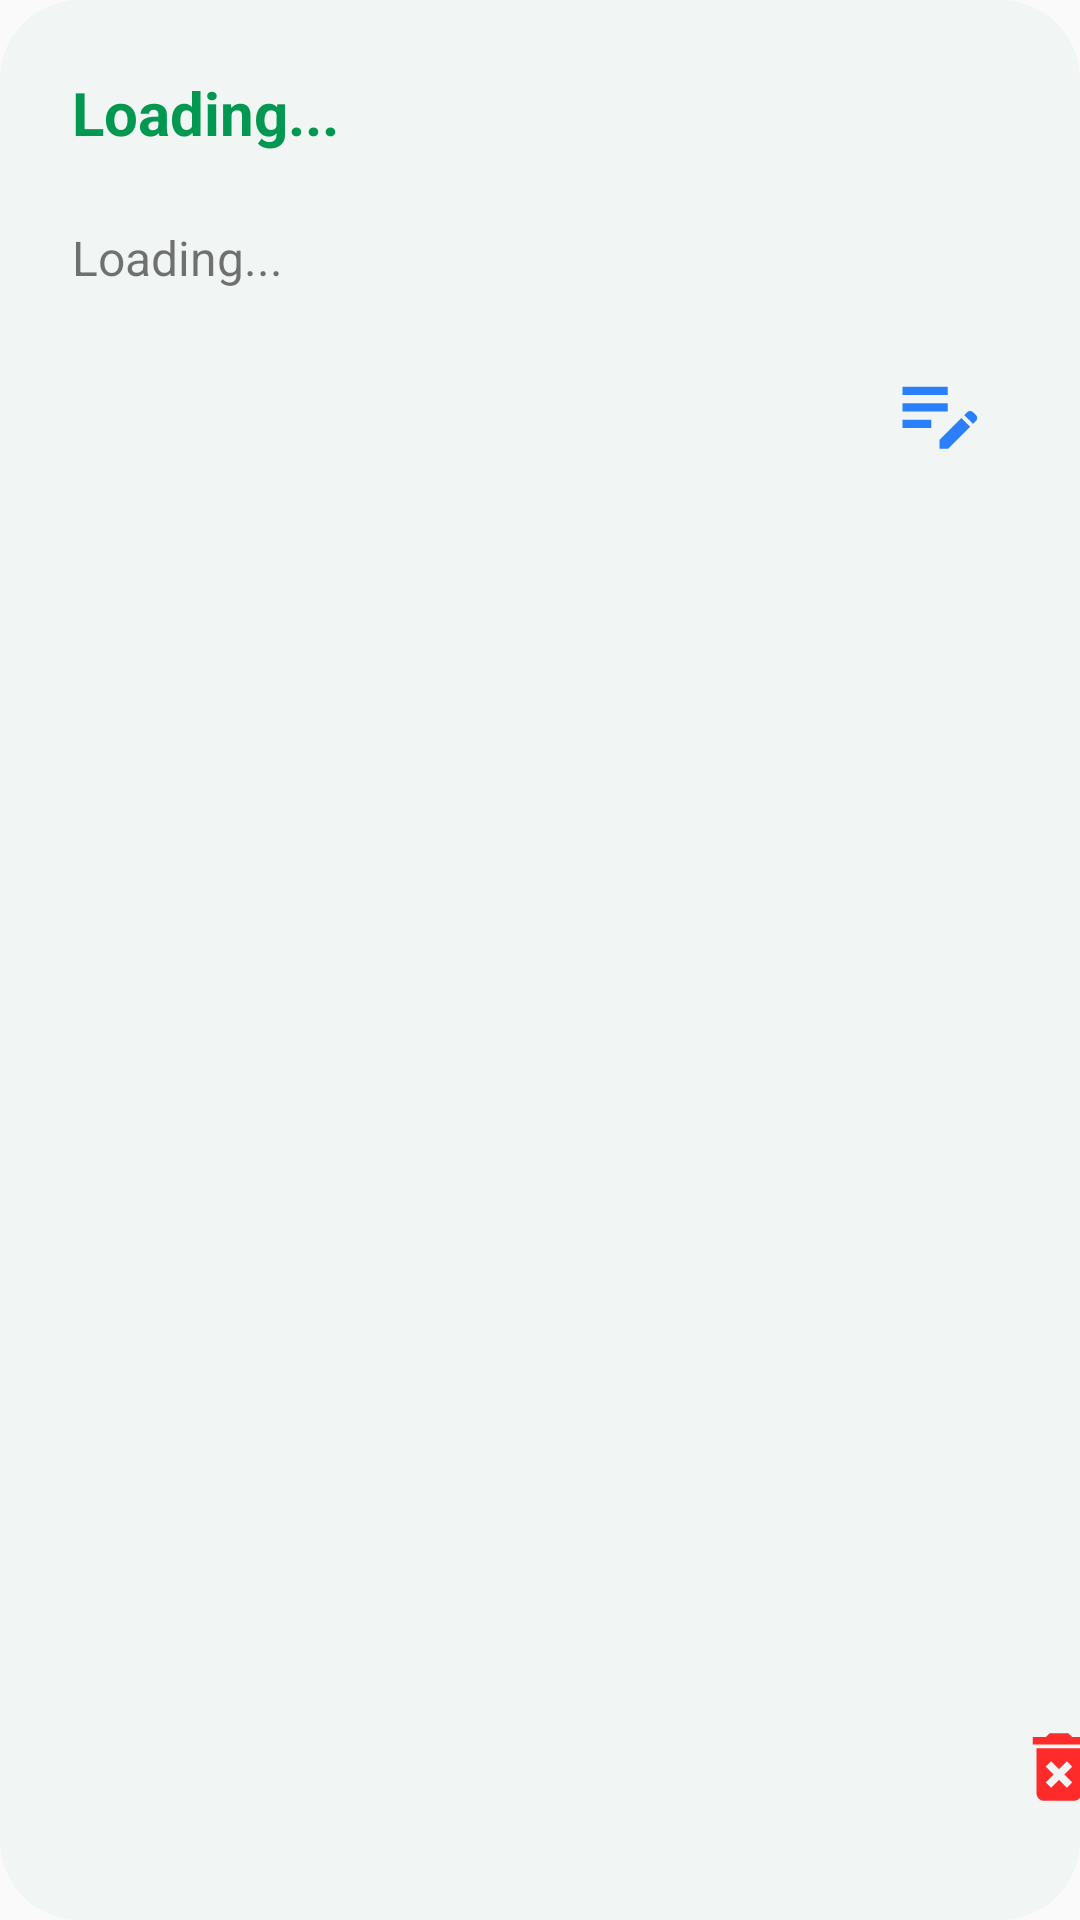

Screen size 1080 x 1920. Icon name, then its box in pixels as BBox(x1, y1, x2, y2):
Edit: BBox(902, 386, 977, 449)
